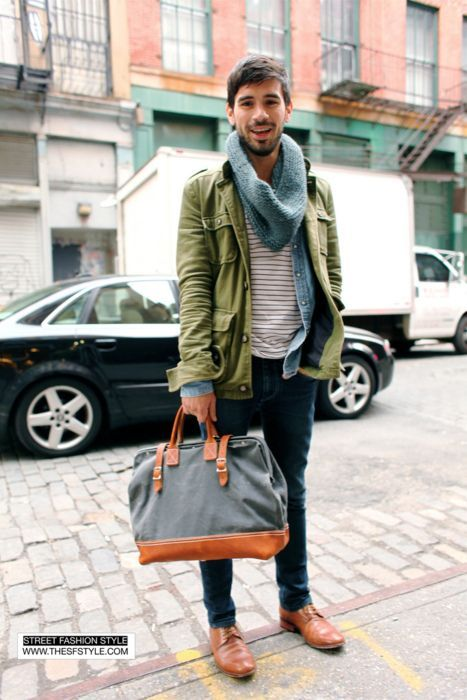person: (123, 52, 349, 682)
